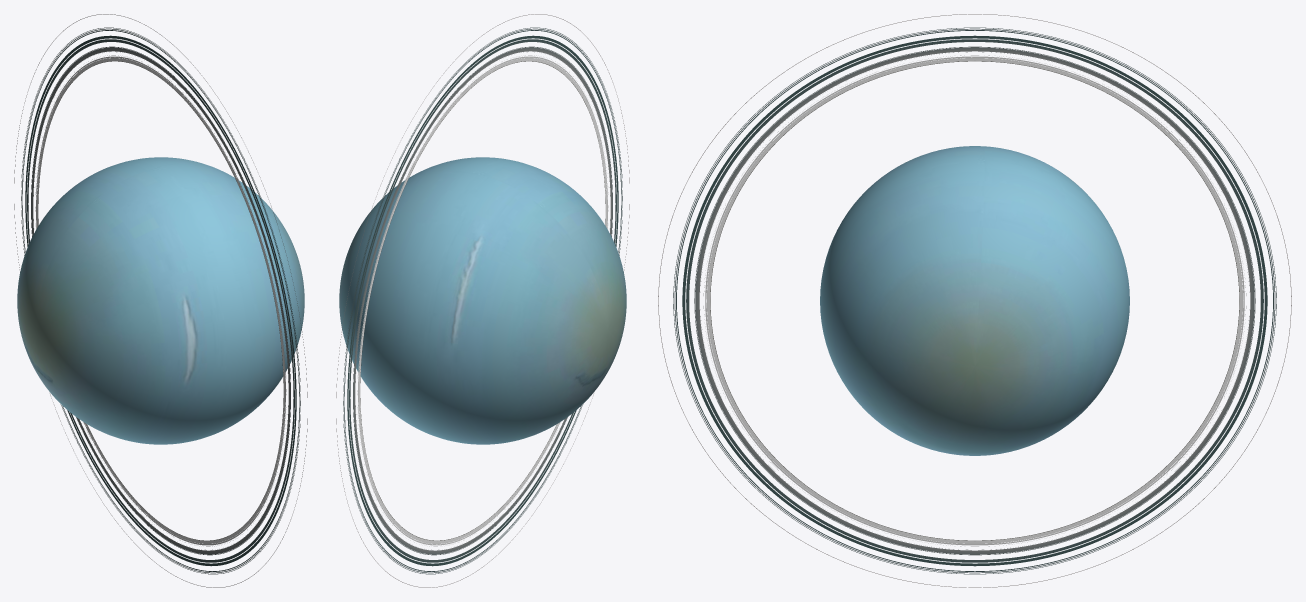
The model's file is Urano.glb.
The picture shows the model from 3 angles, left to right: view 1: azimuth 30°, elevation 25°; view 2: azimuth 150°, elevation 25°; view 3: azimuth 270°, elevation 25°; orthographic projection. The views are drawn at different scales.
Visible parts, largest first — view 1: pSphere1.1, pPlane1.2; view 2: pSphere1.1, pPlane1.2; view 3: pSphere1.1, pPlane1.2.
Part boxes in pixels (x1,y1,x2,y2): pSphere1.1: (17, 157, 304, 444); pPlane1.2: (14, 14, 307, 587); pSphere1.1: (339, 157, 626, 444); pPlane1.2: (336, 14, 629, 587); pSphere1.1: (820, 146, 1129, 455); pPlane1.2: (658, 14, 1291, 587).
Bounding box in the file's own units: 0.2 × 0.4086 × 0.4086.
Materials: 2 (2 with a texture image).
